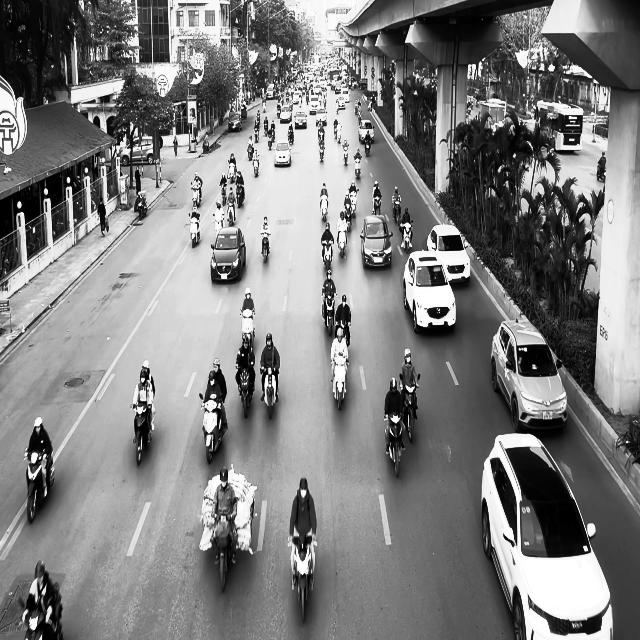bus: (535, 99, 583, 153)
car: (481, 432, 614, 639), (490, 318, 568, 433), (403, 250, 456, 334), (426, 223, 471, 285), (210, 225, 246, 282), (360, 215, 393, 269), (117, 136, 163, 166), (274, 139, 291, 167), (358, 119, 374, 143), (228, 112, 242, 132)
motorbike: (289, 534, 316, 622), (24, 448, 55, 524), (211, 513, 238, 592), (198, 392, 226, 464), (131, 403, 155, 466), (399, 373, 420, 442), (384, 412, 405, 477), (235, 356, 255, 418), (260, 366, 279, 419), (331, 353, 348, 410), (322, 292, 338, 336), (240, 309, 255, 352), (399, 220, 413, 252), (188, 212, 200, 247), (335, 318, 350, 346), (321, 238, 333, 272), (337, 224, 348, 258), (260, 230, 271, 262), (212, 213, 225, 240), (348, 188, 358, 218), (137, 190, 147, 219), (191, 181, 201, 209), (227, 198, 236, 226), (372, 193, 382, 216), (392, 199, 401, 224), (320, 193, 328, 221), (227, 160, 236, 183), (597, 158, 606, 181), (354, 155, 362, 178), (252, 154, 260, 177), (220, 182, 228, 205), (318, 136, 325, 162), (364, 131, 371, 156), (342, 145, 348, 165)
